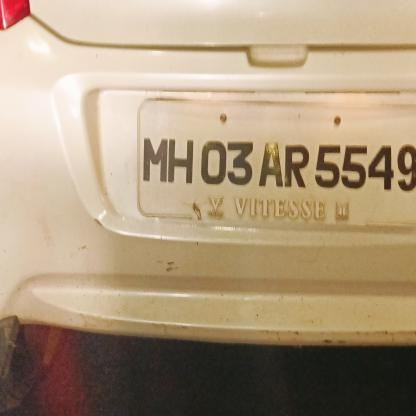license_plate: (135, 98, 415, 224)
